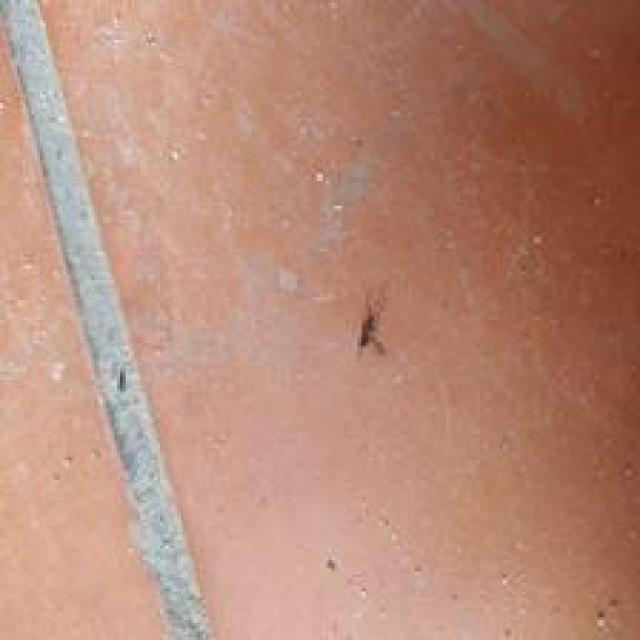Aedes albopictus: (356, 294, 387, 357)
